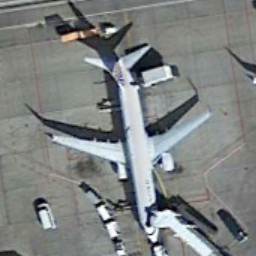Airplane: (30, 42, 217, 247)
